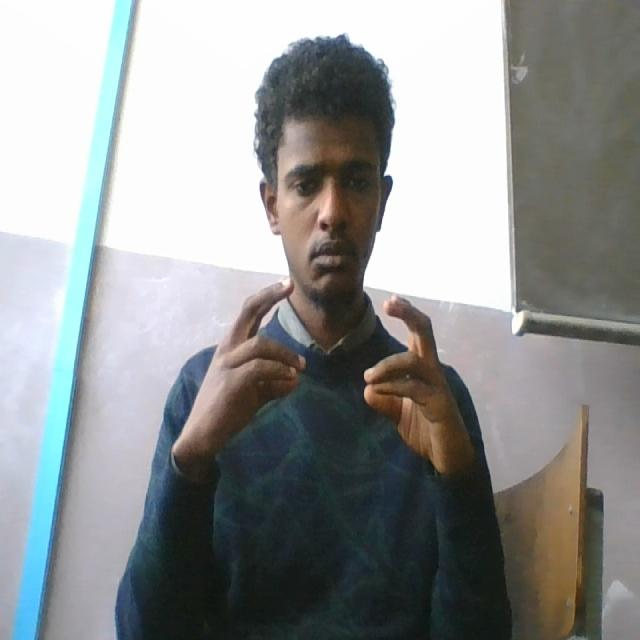sefer: (178, 269, 472, 480)
